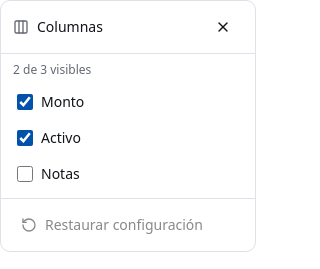
Test: ColumnSettingsPanel › restaurar configuración › devuelve las columnas a su estado inicial
Click the checkbox labelled "Monto" at [25, 102], box [17,94,33,110]
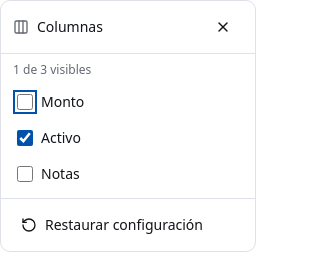
Click the checkbox labelled "Notas" at [25, 174], box [17,166,33,182]
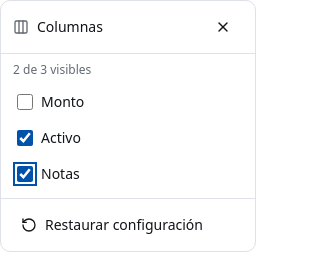
Click the button "Restaurar configuración" at [128, 225], box [9,207,247,243]
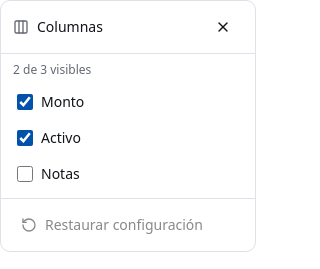
Check: the checkbox labelled "Monto" is checked, box [17,94,33,110]
Check: the checkbox labelled "Notas" is not checked, box [17,166,33,182]
Check: the button "Restaurar configuración" is disabled, box [9,207,247,243]
